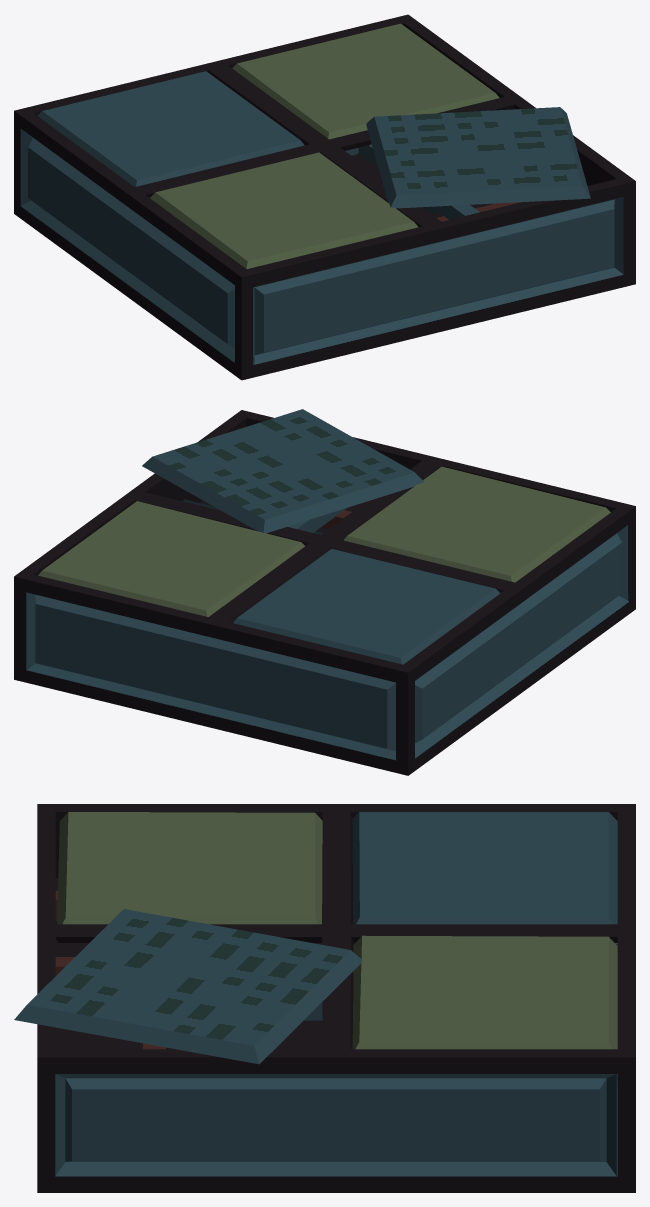
Rendered from Floor_Tiled_02.glb.
3 renders of one model, top to bottom at view 1: azimuth 30°, elevation 25°; view 2: azimuth 150°, elevation 25°; view 3: azimuth 270°, elevation 25°, orthographic. The views are drawn at different scales.
Parts seen in each view (by area): view 1: Floor_Tiled_02; view 2: Floor_Tiled_02; view 3: Floor_Tiled_02.
Part boxes in pixels (x1=…): Floor_Tiled_02: x1=14, y1=14, x2=635, y2=380; Floor_Tiled_02: x1=14, y1=409, x2=635, y2=775; Floor_Tiled_02: x1=14, y1=804, x2=635, y2=1192.
Bounding box in the file's own units: 1.04 × 0.279 × 1.04.
1 material, 1 textured.
